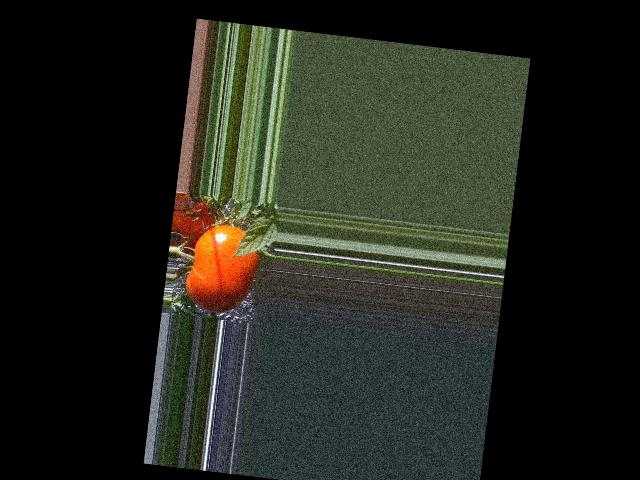tomato: (183, 221, 262, 316)
